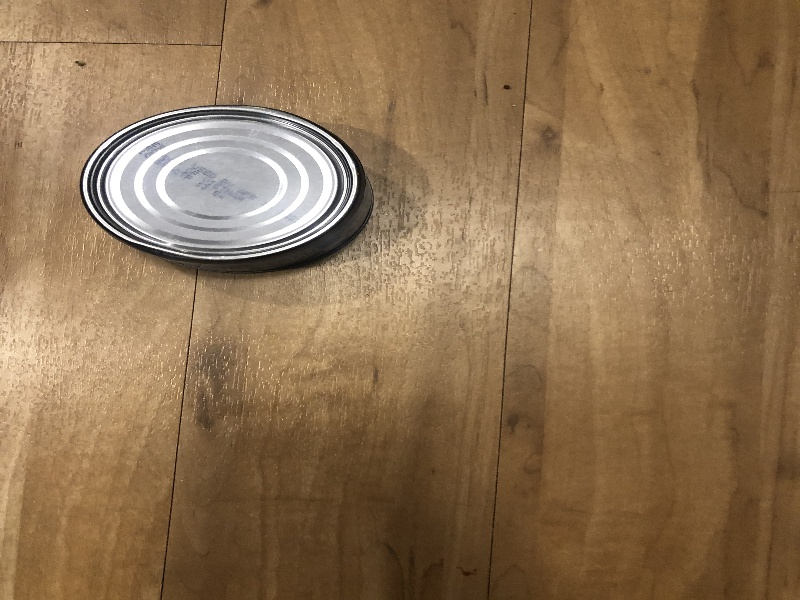metal: (81, 99, 381, 277)
